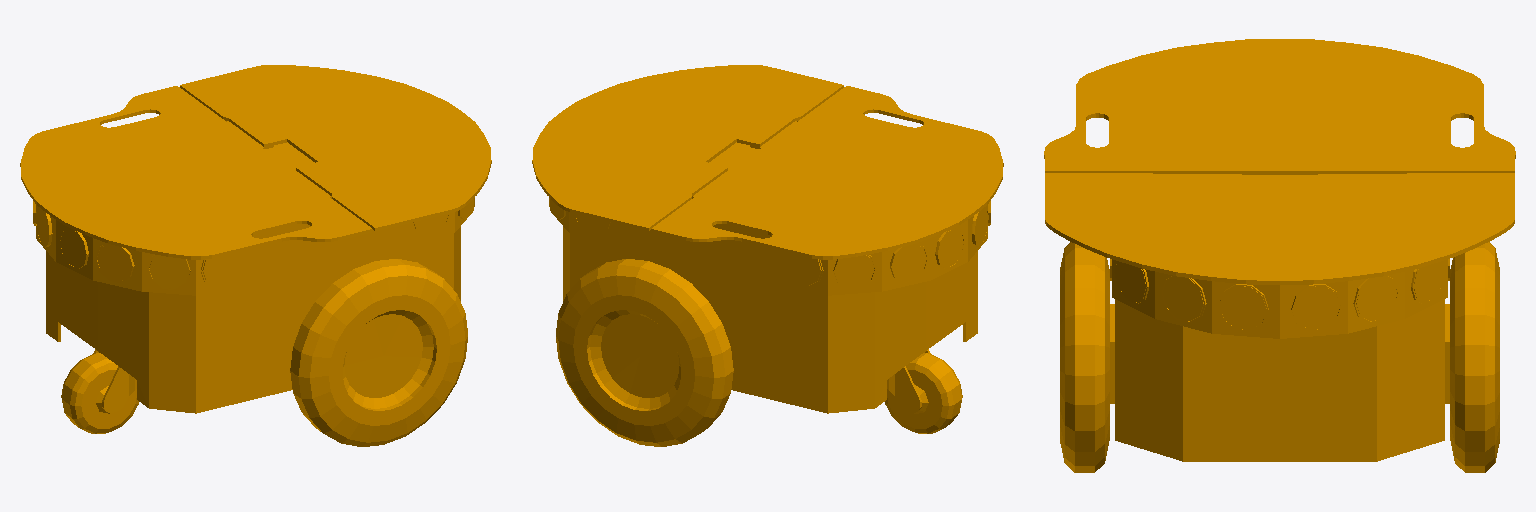
The robot description file, URDF, robot "unicycle":
<?xml version="1.0"?>
<!-- Main unicycle link -->
<robot name="unicycle">

    <link name="base_link">
      <inertial>
        <mass value="1." />
        <origin xyz="0 0 0" />
        <inertia ixx="0.015" ixy="0.0" ixz="0.0" iyy="0.015" iyz="0.0" izz="0.007" />
      </inertial>

      <visual>
        <origin xyz="0 0 0" rpy="0 0 0" />
        <geometry>
          <mesh filename="package://robots/meshes/unicycle/ddr.obj"/>
        </geometry>
      </visual>

      <collision>
        <origin xyz="0 0 0" rpy="0 0 0" />
       <geometry>
          <mesh filename="package://robots/meshes/unicycle/ddr.obj"/>
        </geometry>
      </collision>
    </link>

    <link name="world_link"/>

    <joint 
      name="world_body_joint"
      type="fixed">
      <parent
        link="world_link" />
      <child
        link="base_link" />
    </joint>

</robot>

--- What the picture shows (computed from the rendered views, not written in the file) ---
The picture shows the robot from 3 angles, left to right: view 1: azimuth 30°, elevation 25°; view 2: azimuth 150°, elevation 25°; view 3: azimuth 270°, elevation 25°; orthographic projection.
Robot: unicycle — 2 links, 1 joints (1 fixed); root link world_link; default pose: every joint at zero.
Visible links, largest first — view 1: base_link; view 2: base_link; view 3: base_link.
Boxes of the visible links, x1,y1,x2,y2 form: base_link: (20,65,491,446); base_link: (532,65,1003,446); base_link: (1044,39,1515,472).
Size in the robot's own frame: 0.4865 by 0.4003 by 0.2605 metres.
1 mesh visuals loaded from 1 distinct referenced files (1 OBJ).